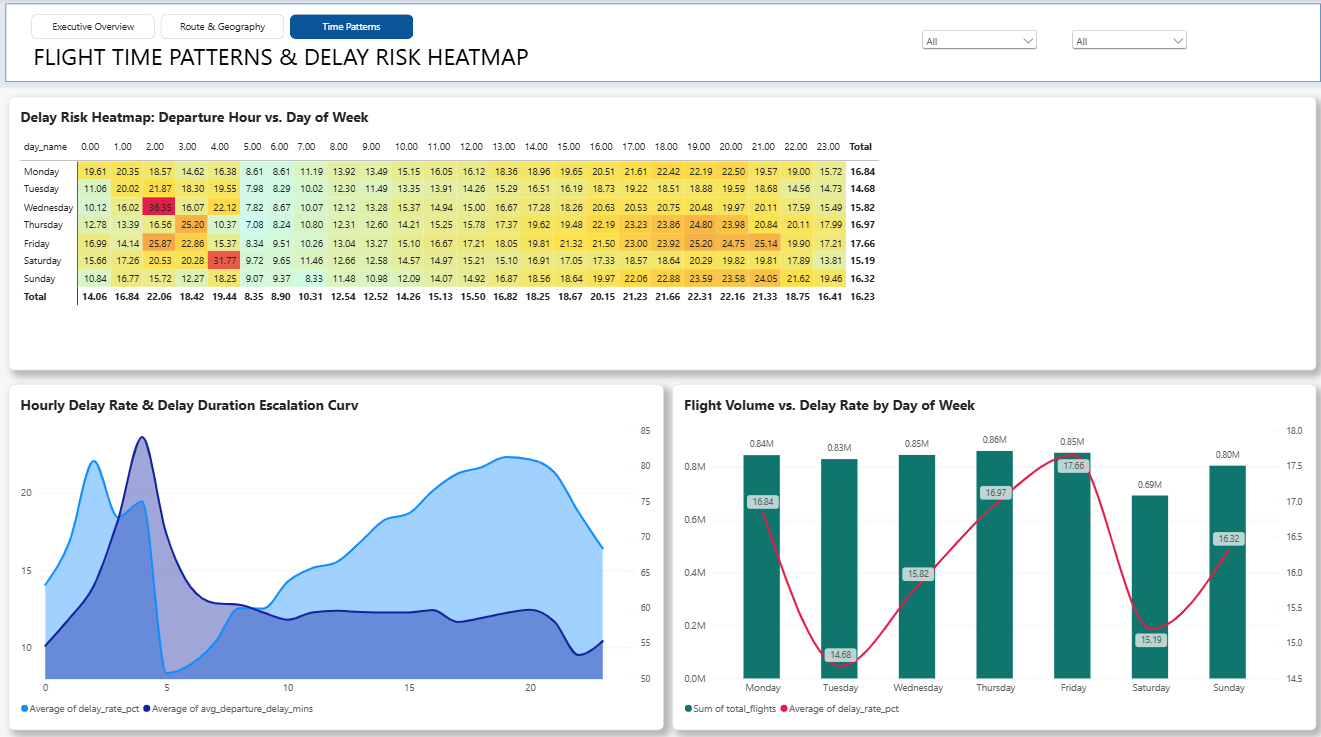

What the dashboard file says about the page in this screenshot:
{"tool":"powerbi","page":{"name":"Time Patterns","canvas":[1920,1080],"ordinal":2},"visuals":[{"type":"shape","box":[0,0,1920.4,129.7],"z":0},{"type":"slicer","fields":{"Values":["analytics time_pattern_analysis.airline_name"]},"box":[1329.4,42.4,176.2,42.4],"z":1000},{"type":"slicer","fields":{"Values":["analytics time_pattern_analysis.origin_airport"]},"box":[1548,42.2,176.1,42.2],"z":2000},{"type":"pivotTable","title":"Delay Risk Heatmap: Departure Hour vs. Day of Week","fields":{"Rows":["analytics time_pattern_analysis.day_name"],"Columns":["analytics time_pattern_analysis.departure_hour"],"Values":["Avg(analytics time_pattern_analysis.delay_rate_pct)"]},"box":[12.8,143.1,1892.9,396.2],"z":3000},{"type":"areaChart","title":"Hourly Delay Rate & Delay Duration Escalation Curv","fields":{"Category":["analytics time_pattern_analysis.departure_hour"],"Y":["Avg(analytics time_pattern_analysis.delay_rate_pct)"],"Y2":["Avg(analytics time_pattern_analysis.avg_departure_delay_mins)"]},"box":[12.8,559.4,948.3,500.7],"z":4000},{"type":"lineClusteredColumnComboChart","title":"Flight Volume vs. Delay Rate by Day of Week","fields":{"Category":["analytics time_pattern_analysis.day_name"],"Y":["Sum(analytics time_pattern_analysis.total_flights)"],"Y2":["Avg(analytics time_pattern_analysis.delay_rate_pct)"]},"box":[973.9,559.4,931.8,500.7],"z":5000},{"type":"pageNavigator","box":[45.2,23.5,555.6,36.2],"z":6000}]}

Visuals, with their boxes in screenshot pixels (x1, y1, x2, y2), scaled from the page's 1920x1080 canvas onto the 1321x737 screenshot:
shape: 0/0/1320/89
slicer - analytics time_pattern_analysis.airline_name: 915/29/1036/58
slicer - analytics time_pattern_analysis.origin_airport: 1065/29/1186/58
"Delay Risk Heatmap: Departure Hour vs. Day of Week" pivotTable: 9/98/1311/368
"Hourly Delay Rate & Delay Duration Escalation Curv" areaChart: 9/382/661/723
"Flight Volume vs. Delay Rate by Day of Week" lineClusteredColumnComboChart: 670/382/1311/723
pageNavigator: 31/16/413/41
